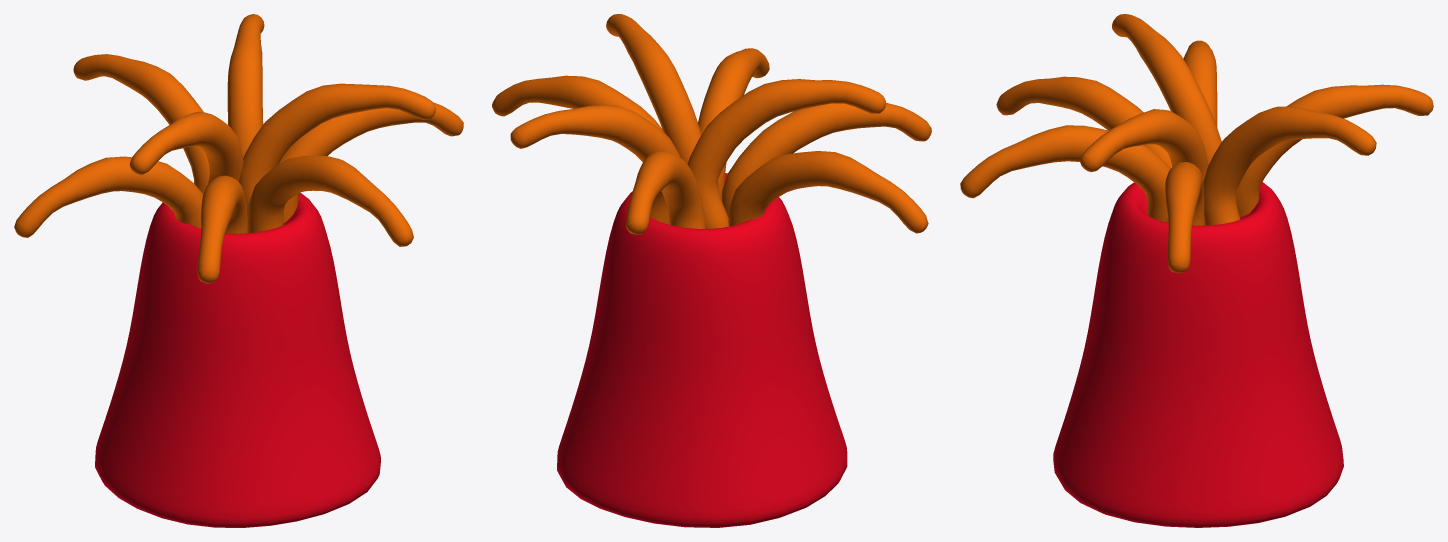
The model's file is uniquecoral3.fbx.
3 renders of one model, left to right at view 1: azimuth 30°, elevation 25°; view 2: azimuth 150°, elevation 25°; view 3: azimuth 270°, elevation 25°, orthographic. The views are drawn at different scales.
Parts seen in each view (by area): view 1: UniqueCoral3Base.Low, UniqueCoral3Head.Low; view 2: UniqueCoral3Base.Low, UniqueCoral3Head.Low; view 3: UniqueCoral3Base.Low, UniqueCoral3Head.Low.
Part boxes in pixels (x1,y1,x2,y2): UniqueCoral3Base.Low: (95,192,380,527); UniqueCoral3Head.Low: (14,14,463,283); UniqueCoral3Base.Low: (557,173,847,527); UniqueCoral3Head.Low: (492,14,931,234); UniqueCoral3Base.Low: (1053,182,1343,527); UniqueCoral3Head.Low: (960,14,1433,273).
Bounding box in the file's own units: 175 × 150 × 160.
